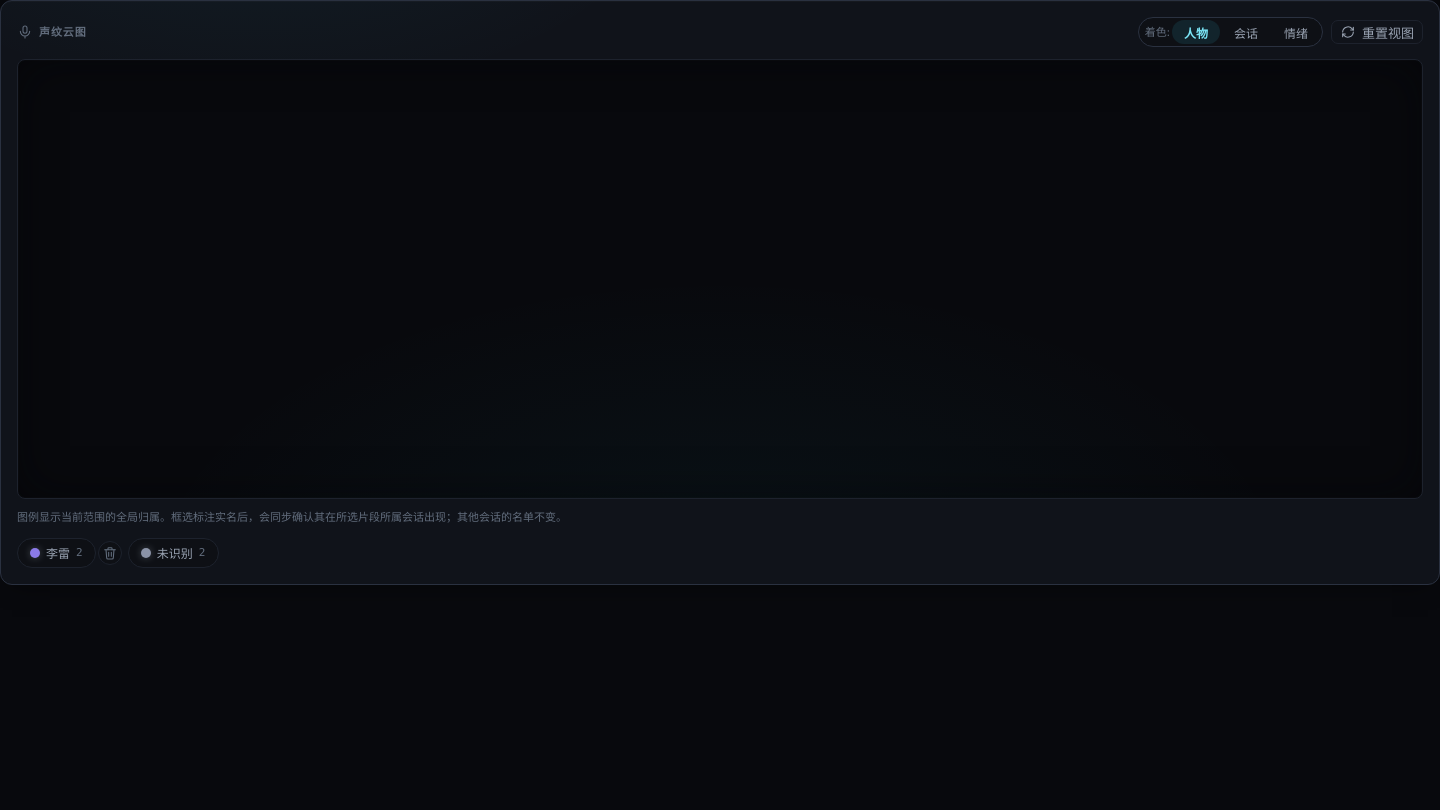
VoiceprintMap › reports clear-attribution failures without replacing a valid projection
This screenshot has width=1440, height=810.
Check: the list named "图例" is shown, box [17,538,218,568]
Click the button named "取消李雷的识别": x=110, y=552 [98,540,122,564]
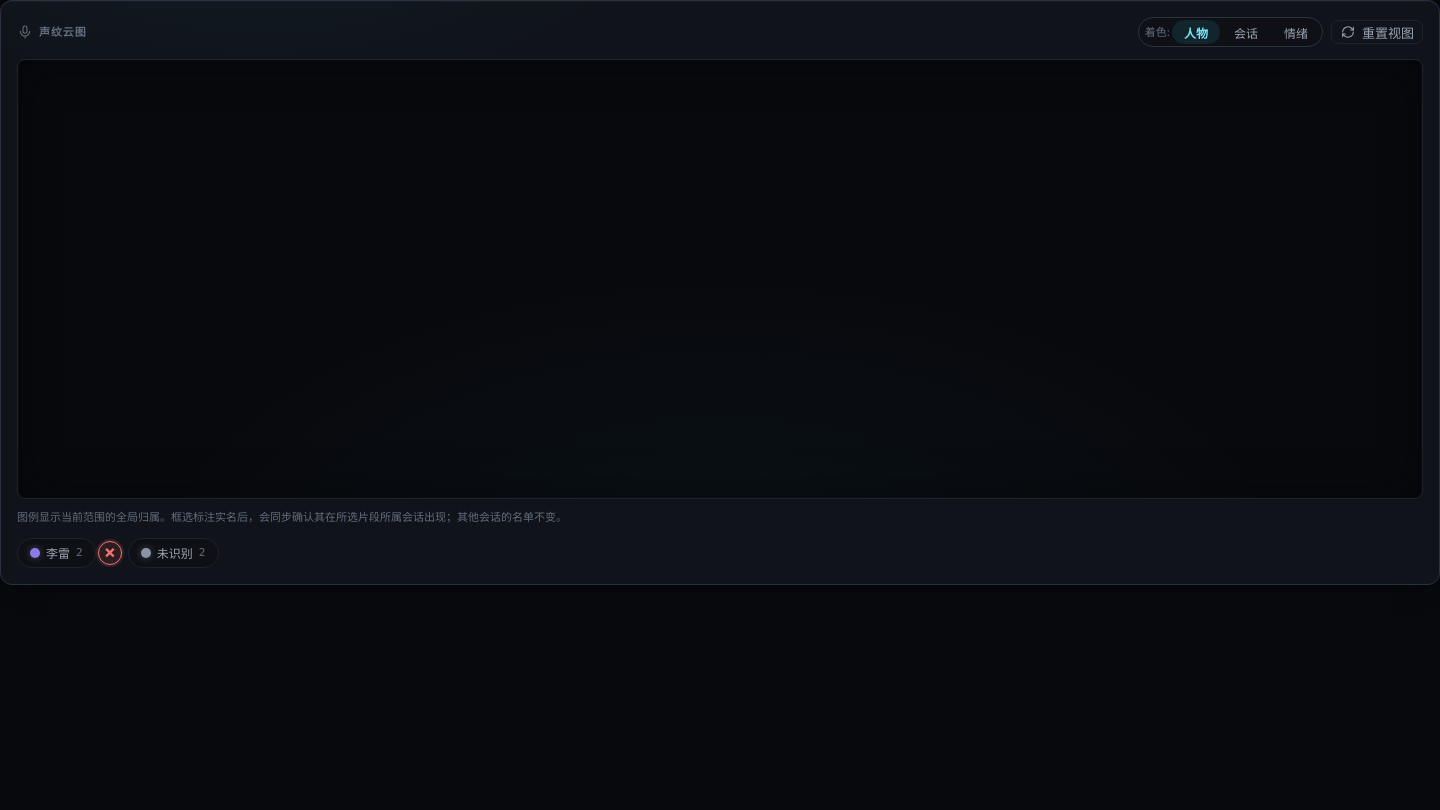
Click the button named "确认取消李雷的识别": x=110, y=552 [98,540,122,564]
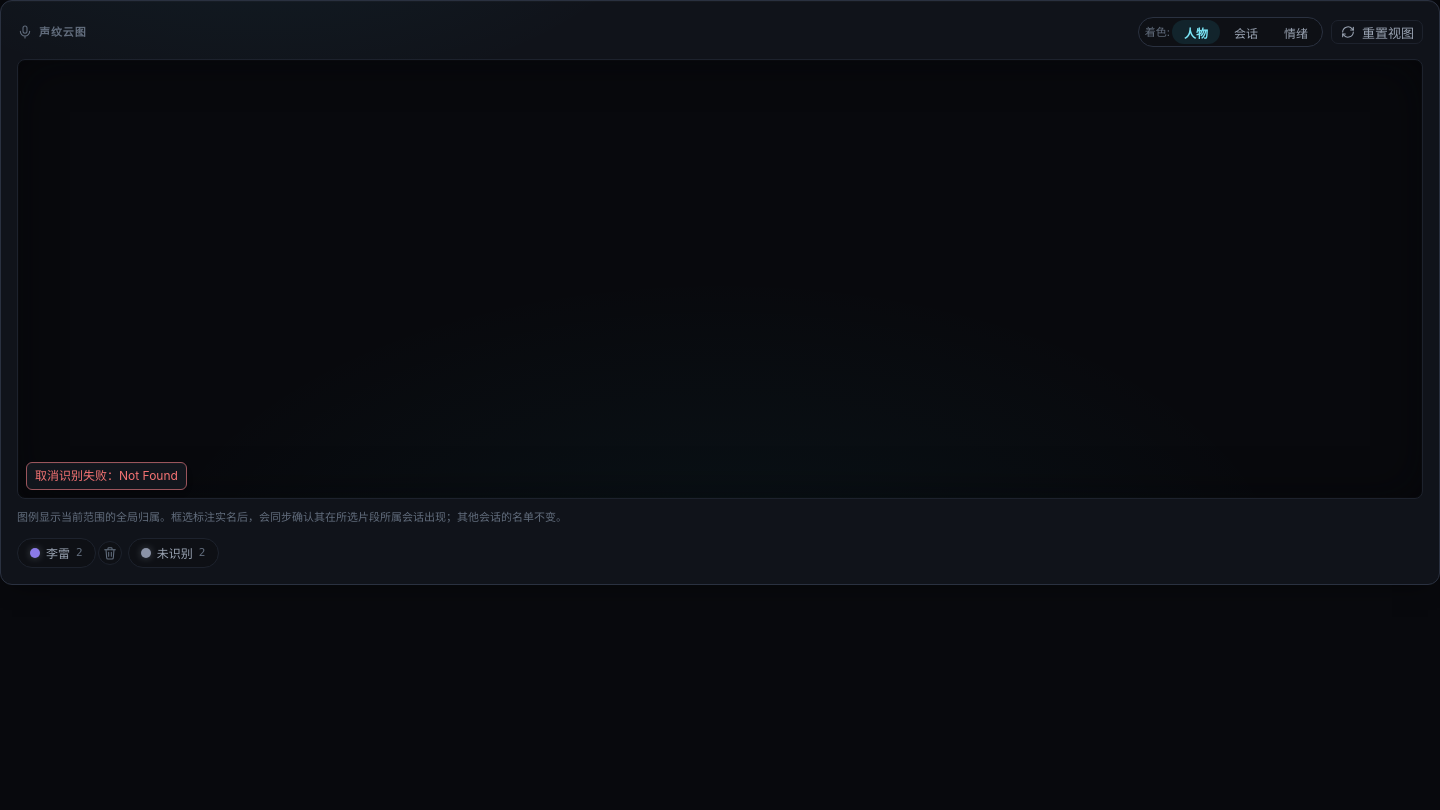
Check: the list named "图例" is shown, box [17,538,218,568]
Check: the message reads "取消识别失败：Not Found", box [35,468,178,483]
